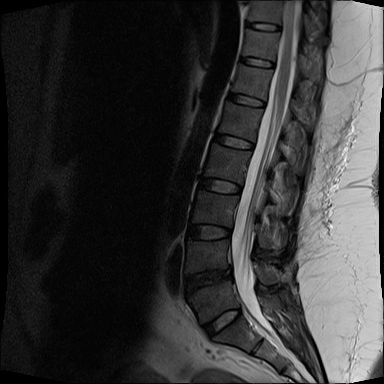Lumbar Disc Bulge (LDB): (174, 261, 235, 300)
Normal IVD: (196, 304, 243, 343), (190, 172, 245, 198), (179, 220, 233, 244), (207, 128, 256, 154), (220, 88, 269, 111), (231, 52, 278, 72), (240, 19, 284, 36)
